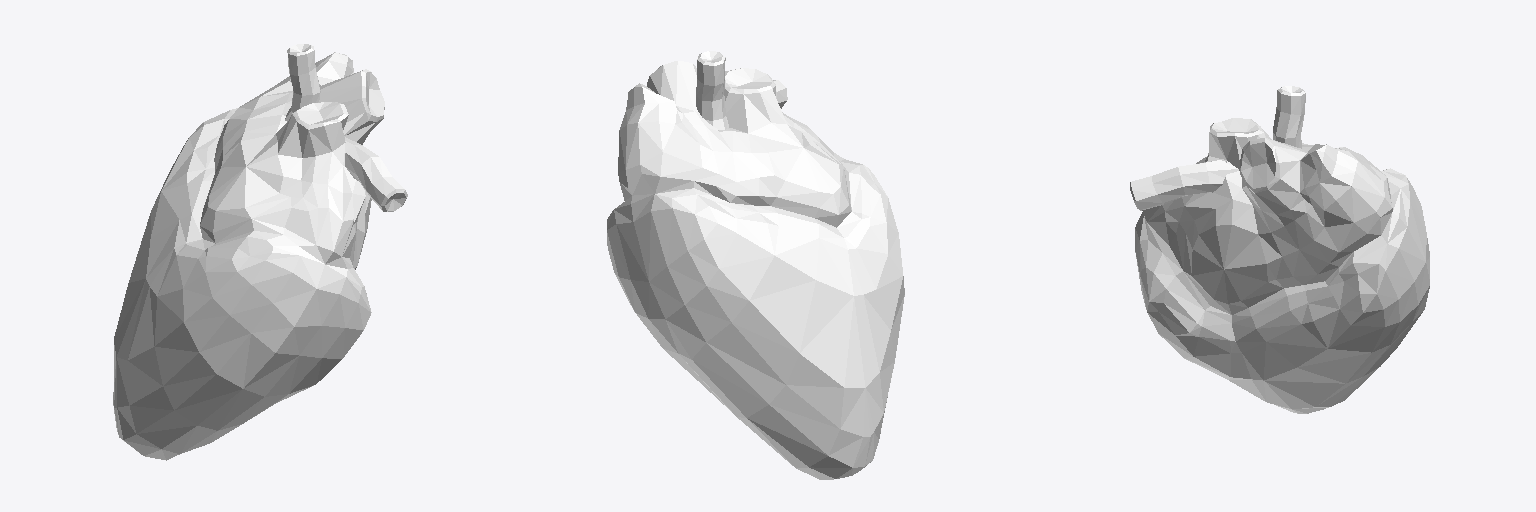
File: heart.obj
The picture shows the model from 3 angles: view 1: azimuth 30°, elevation 25°; view 2: azimuth 150°, elevation 25°; view 3: azimuth 270°, elevation 25°; orthographic projection.
Visible parts, largest first — view 1: human_heart_solo; view 2: human_heart_solo; view 3: human_heart_solo.
Boxes of the visible parts, x1,y1,x2,y2 form: human_heart_solo: [113, 44, 407, 460]; human_heart_solo: [607, 51, 904, 479]; human_heart_solo: [1130, 86, 1429, 413].
Bounding box in the file's own units: 14.26 × 21.4 × 15.16.